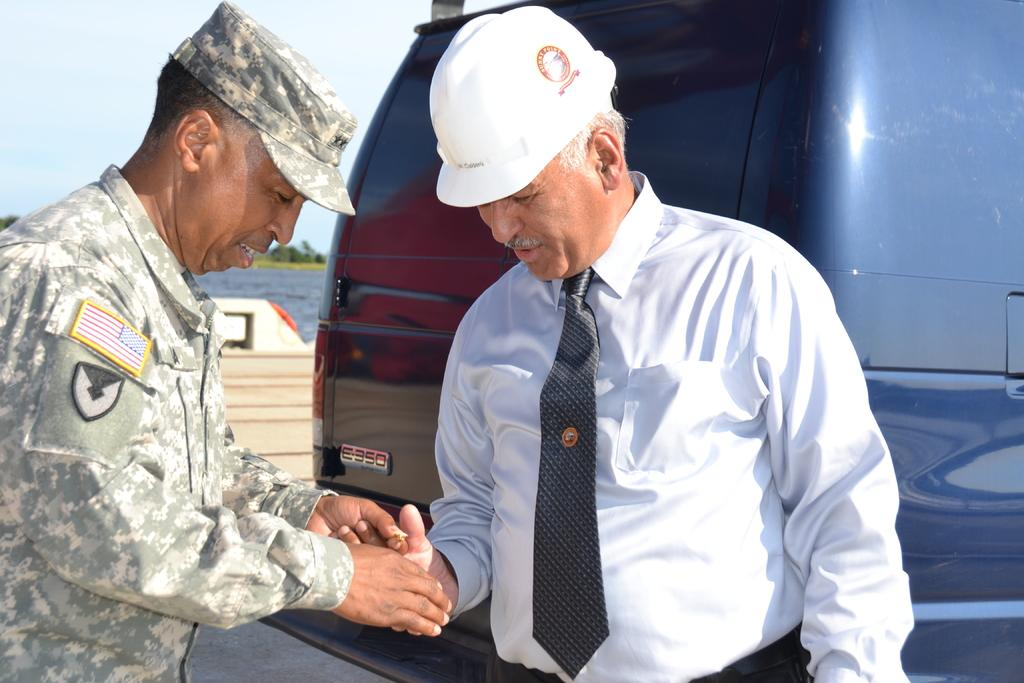Hat: (166, 0, 356, 215)
